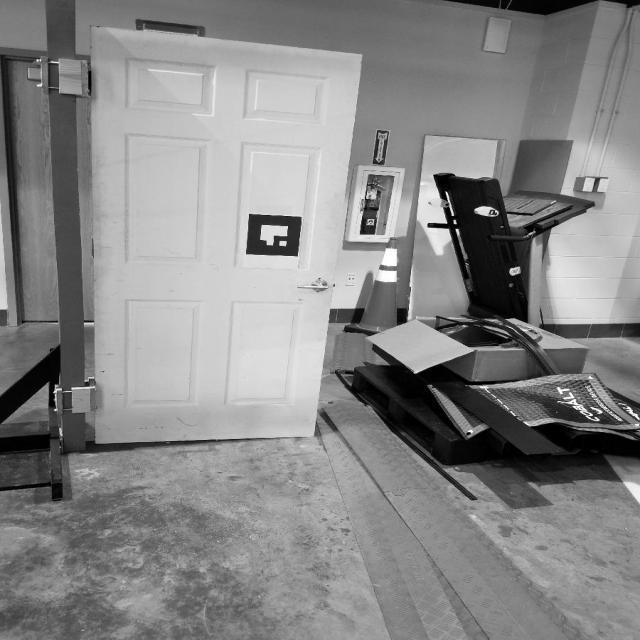door: (80, 22, 366, 452), (292, 277, 336, 295)
